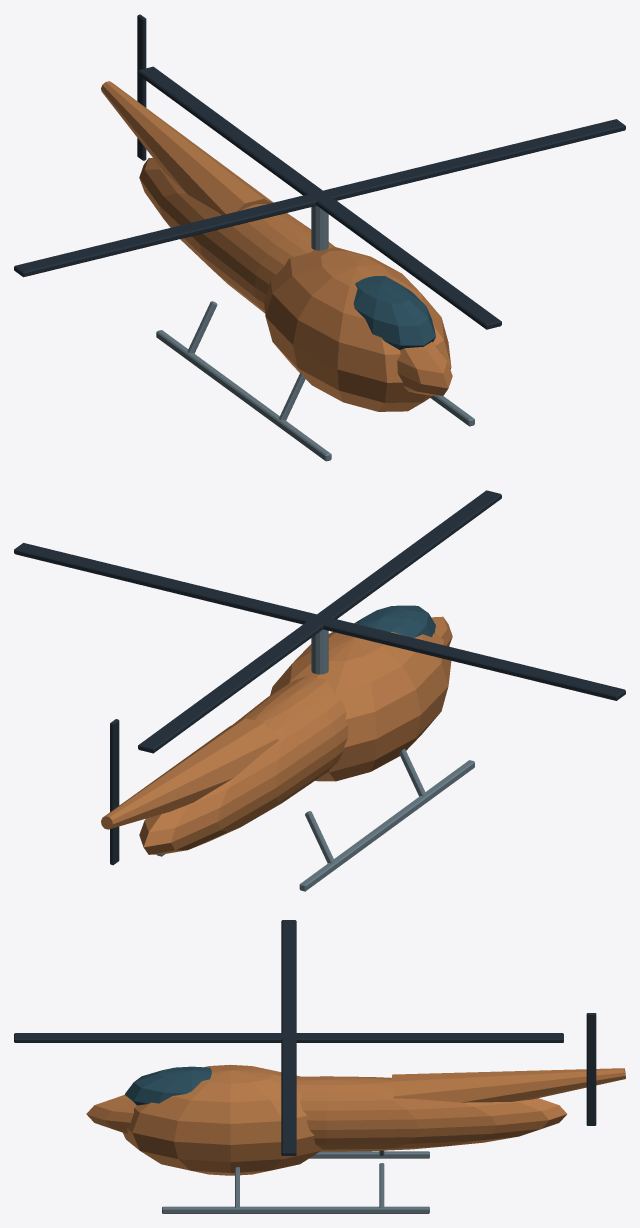
File: aircraft-helicopter.lod0.glb
3 renders of one model, top to bottom at view 1: azimuth 30°, elevation 25°; view 2: azimuth 150°, elevation 25°; view 3: azimuth 270°, elevation 25°, orthographic. The views are drawn at different scales.
Visible parts, largest first — view 1: aircraft-helicopter__body, aircraft-helicopter__main_rotor, aircraft-helicopter__tail_rotor; view 2: aircraft-helicopter__body, aircraft-helicopter__main_rotor, aircraft-helicopter__tail_rotor; view 3: aircraft-helicopter__body, aircraft-helicopter__main_rotor, aircraft-helicopter__tail_rotor.
Boxes of the visible parts, x1,y1,x2,y2 form: aircraft-helicopter__body: [101, 81, 474, 461]; aircraft-helicopter__main_rotor: [14, 66, 625, 329]; aircraft-helicopter__tail_rotor: [137, 14, 146, 160]; aircraft-helicopter__body: [101, 605, 474, 891]; aircraft-helicopter__main_rotor: [14, 490, 625, 753]; aircraft-helicopter__tail_rotor: [110, 719, 119, 865]; aircraft-helicopter__body: [86, 1064, 625, 1213]; aircraft-helicopter__main_rotor: [14, 920, 563, 1155]; aircraft-helicopter__tail_rotor: [586, 1013, 596, 1125].
Bounding box in the file's own units: 8 × 2.85 × 8.9.
